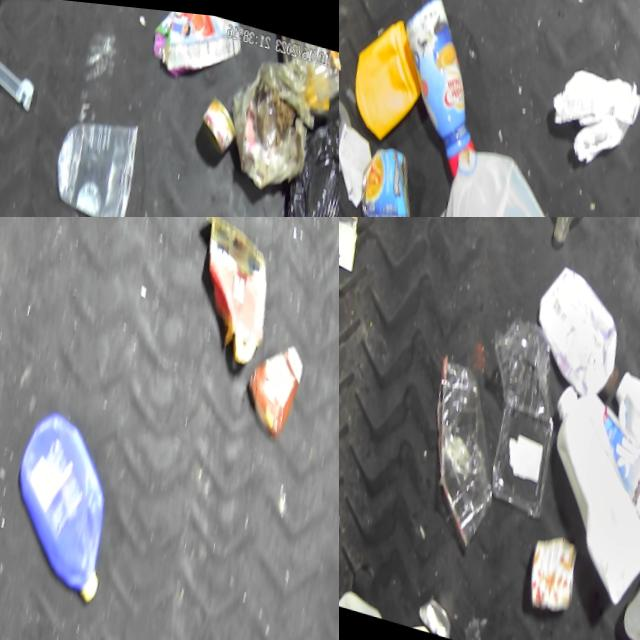can: (507, 507, 586, 620), (340, 136, 417, 217), (193, 84, 241, 152)
milk_jug: (513, 375, 640, 609), (414, 130, 571, 217), (582, 354, 640, 531)
non_white_jug: (0, 396, 129, 618)
